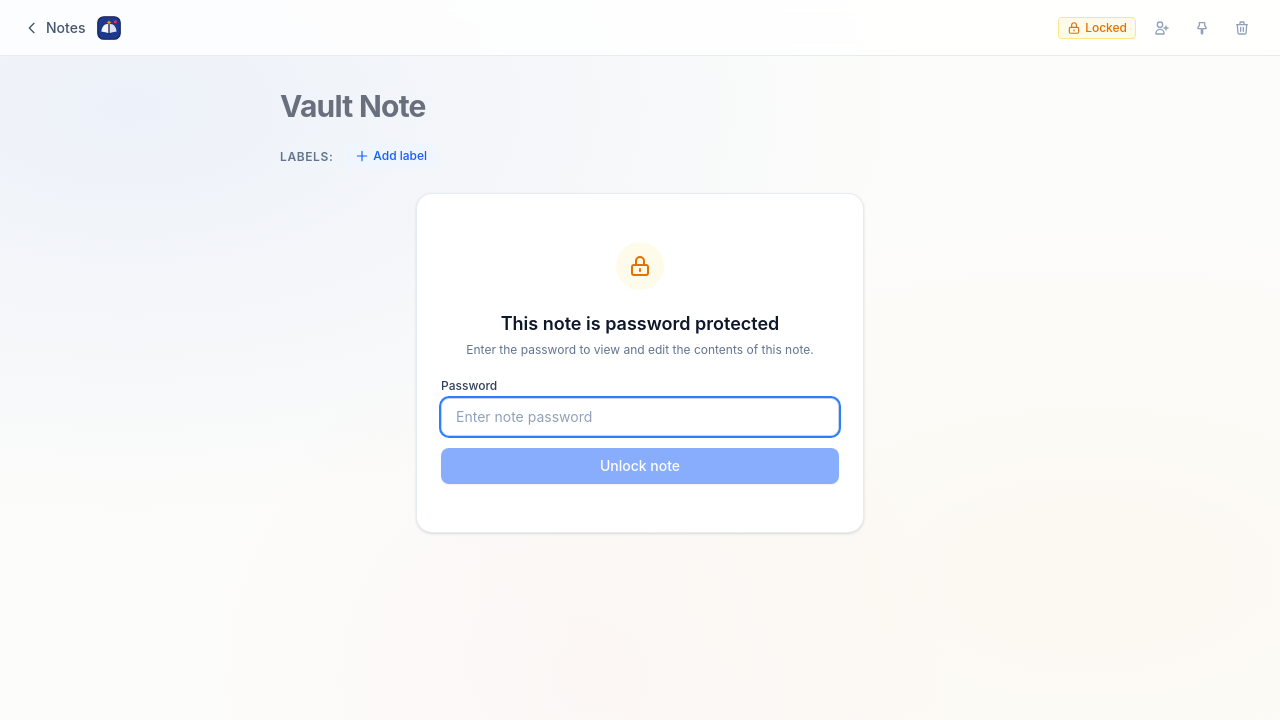
Test: SHARE-01 & SHARE-02 Note Protection Tests › Editor locked state and unlock flow (SHARE-02) › rejects incorrect password with error message and keeps note locked
Expected: the element with test id "locked-note-view" is shown, [416, 193, 864, 533]
Type "WrongPassword!" into the password field with test id "unlock-password-input" at (640, 417), box [441, 398, 839, 436]
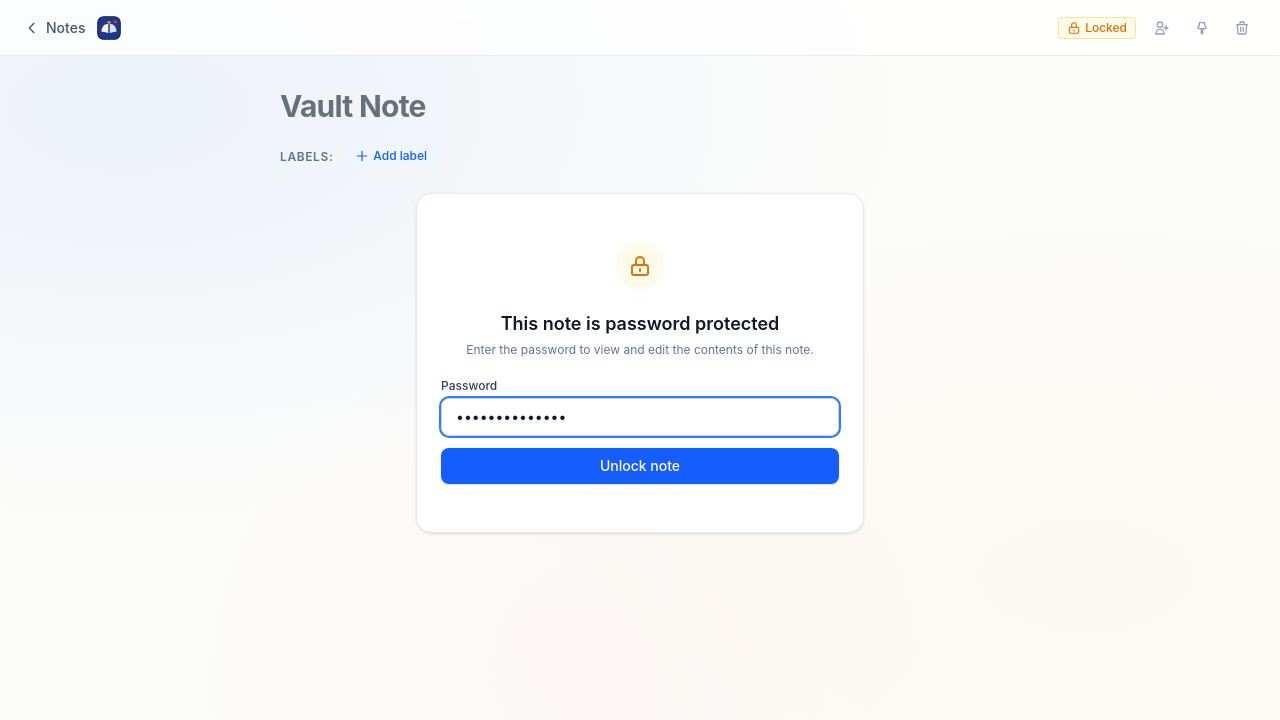
Click the button with test id "unlock-note-button" at (640, 466), box [441, 448, 839, 484]
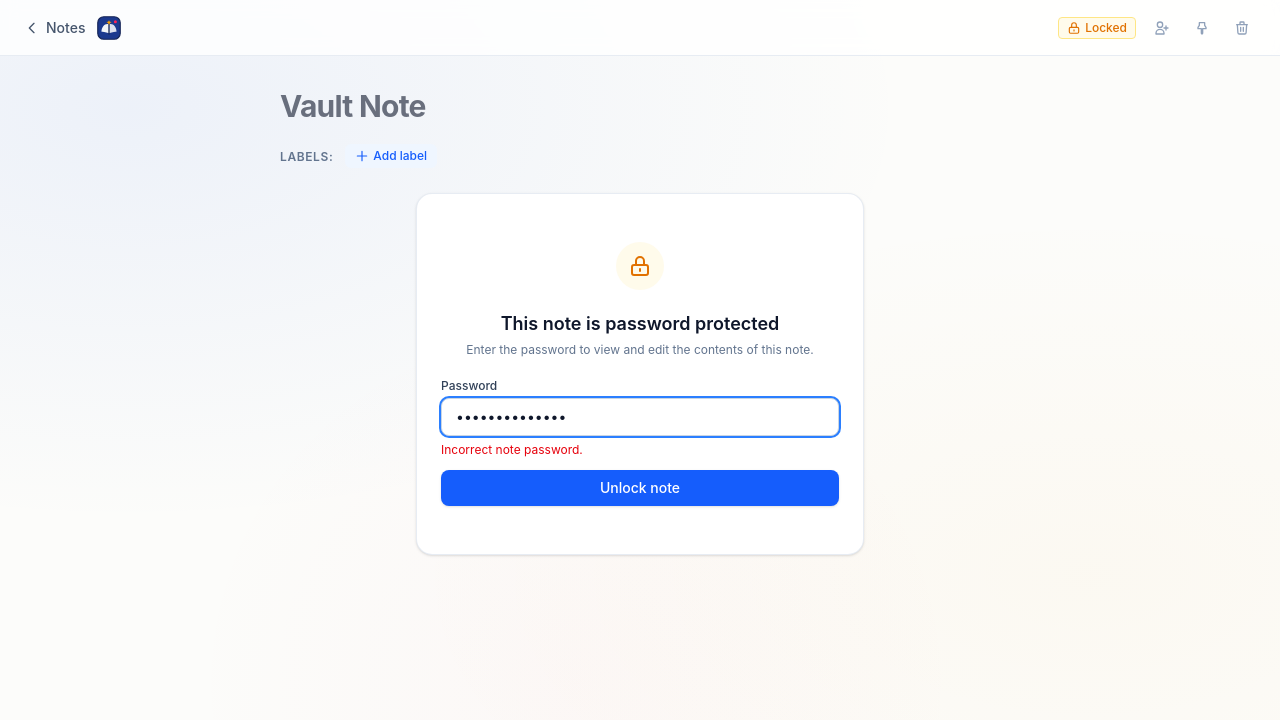
Now the text with test id "unlock-error" reads "Incorrect note password.", box [441, 442, 583, 457]
